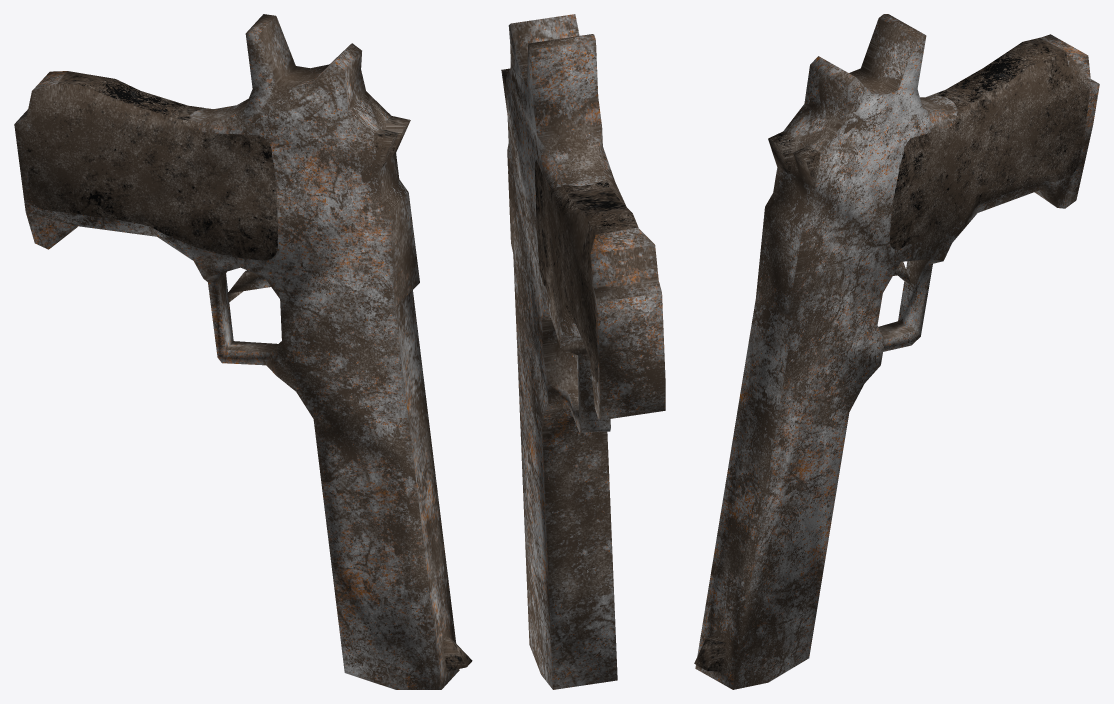
Rendered from Anim_idle_pistola_objetos.0047.obj.
3 views of the same model, side by side, from view 1: azimuth 30°, elevation 25°; view 2: azimuth 150°, elevation 25°; view 3: azimuth 270°, elevation 25° (orthographic). The views are drawn at different scales.
Parts seen in each view (by area): view 1: Pistola1; view 2: Pistola1; view 3: Pistola1.
Part boxes in pixels (x1=…): Pistola1: x1=14, y1=14, x2=472, y2=689; Pistola1: x1=501, y1=14, x2=665, y2=689; Pistola1: x1=694, y1=14, x2=1099, y2=689.
Bounding box in the file's own units: 0.7885 × 1.67 × 0.9943.
